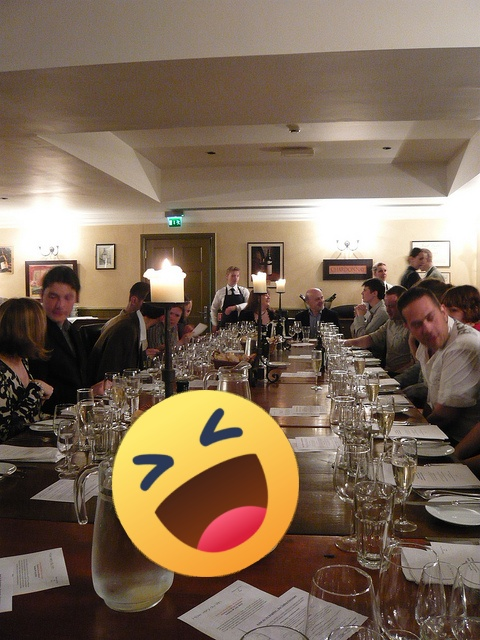haha: (112, 390, 299, 577)
